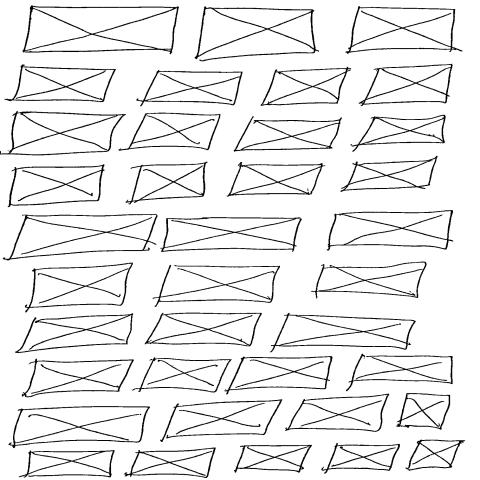Image: (21, 5, 183, 55), (5, 213, 159, 261), (195, 6, 319, 63), (12, 405, 150, 447), (5, 111, 127, 156), (348, 7, 458, 54), (160, 218, 303, 254), (155, 266, 284, 305), (27, 264, 134, 311), (273, 315, 416, 350), (326, 211, 454, 250), (162, 399, 283, 440), (14, 314, 135, 354), (21, 358, 135, 399), (312, 262, 430, 299), (145, 311, 264, 347), (8, 165, 106, 207), (9, 66, 116, 104), (285, 394, 391, 432), (360, 65, 455, 106), (232, 118, 342, 153), (228, 356, 335, 391), (129, 113, 222, 153), (260, 68, 351, 108), (341, 157, 439, 194), (126, 163, 208, 205), (144, 71, 244, 105), (226, 163, 325, 197), (137, 357, 232, 392), (350, 355, 456, 386), (355, 116, 451, 149), (125, 448, 217, 480), (22, 450, 117, 479), (236, 445, 312, 472), (396, 393, 452, 429), (326, 445, 401, 471), (406, 440, 467, 471)
